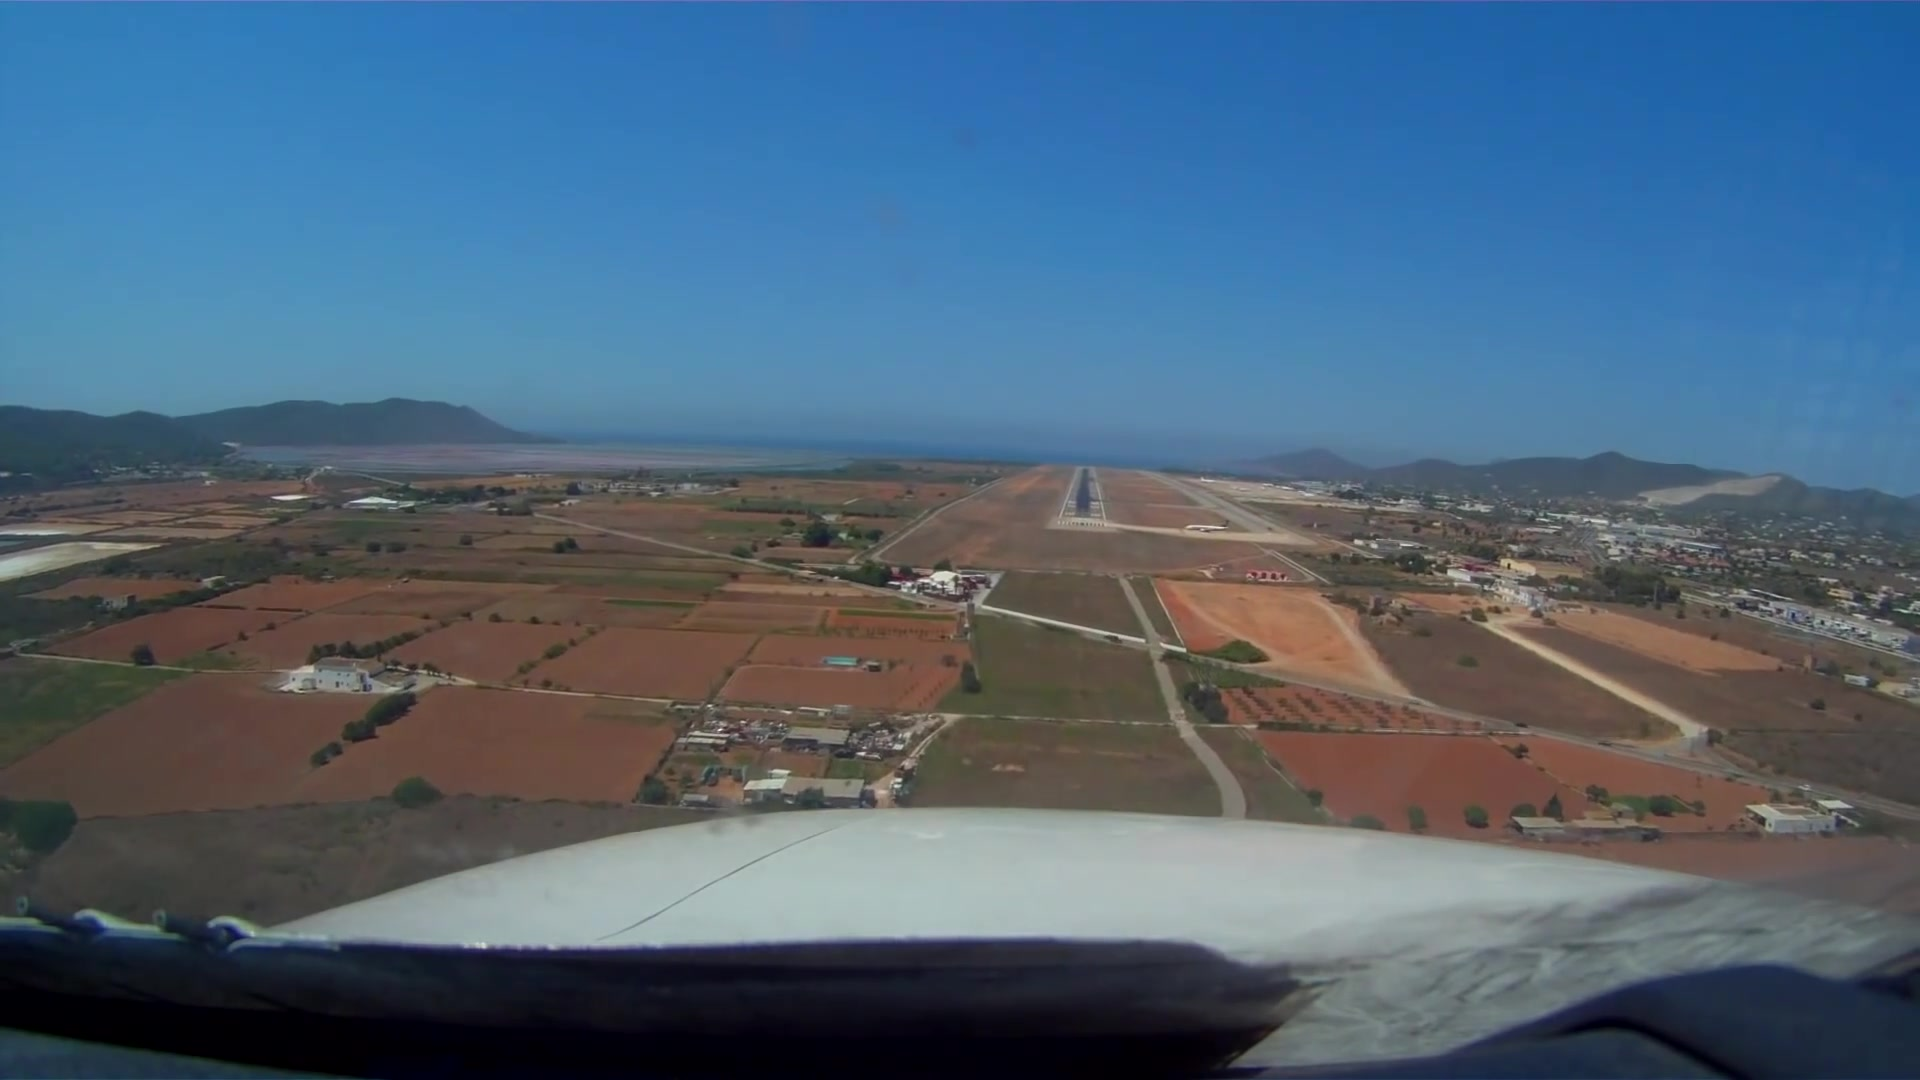entrance: (1058, 518, 1102, 529)
runway: (1054, 467, 1106, 533)
